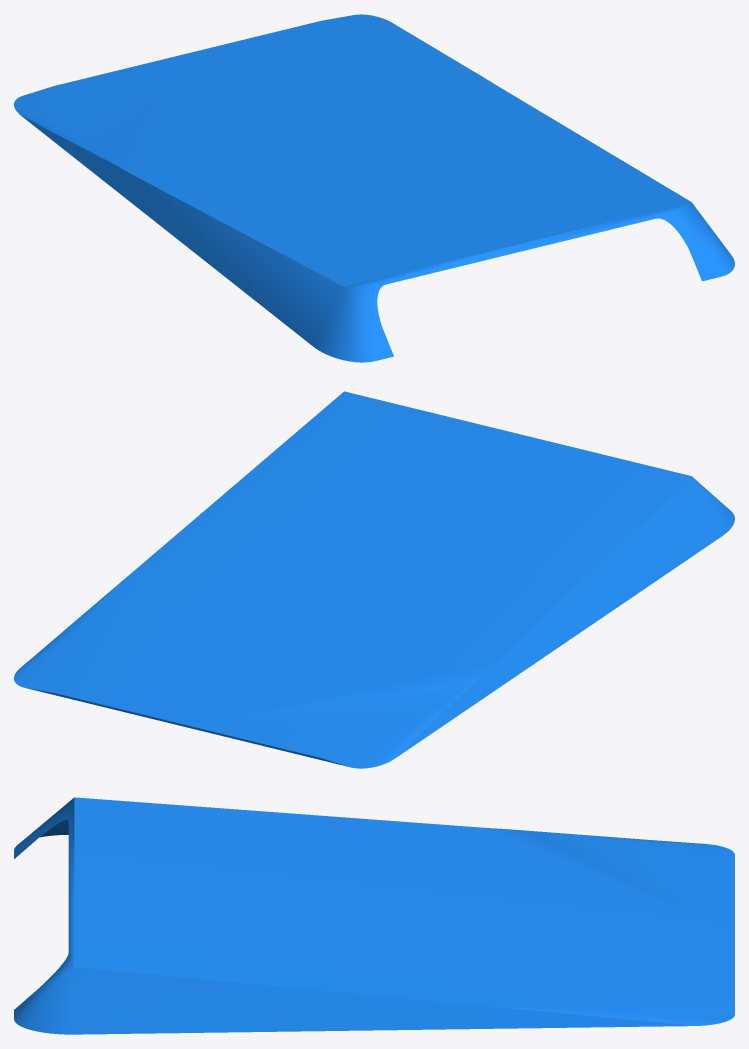
Rendered from roof.dae.
3 views of the same model, one above another, from view 1: azimuth 30°, elevation 25°; view 2: azimuth 150°, elevation 25°; view 3: azimuth 270°, elevation 25° (orthographic).
Parts seen in each view (by area): view 1: SketchUp; view 2: SketchUp; view 3: SketchUp.
Boxes of the visible parts, x1=… form: SketchUp: x1=14, y1=14, x2=734, y2=362; SketchUp: x1=14, y1=391, x2=734, y2=768; SketchUp: x1=14, y1=797, x2=734, y2=1034.
Size of the model in its own units: 170 by 260 by 20.87.
